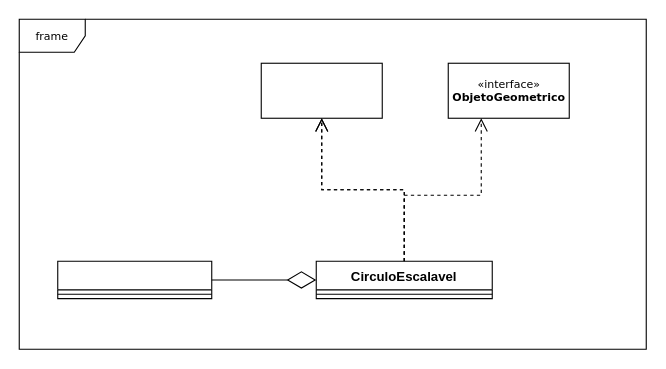
This 666x369 diagram has some shape labels left out. Each missing label, with the centre of its shape:
"Ponto" belongs at point 134,279.
"«interface» Escalavel" belongs at point 321,90.
